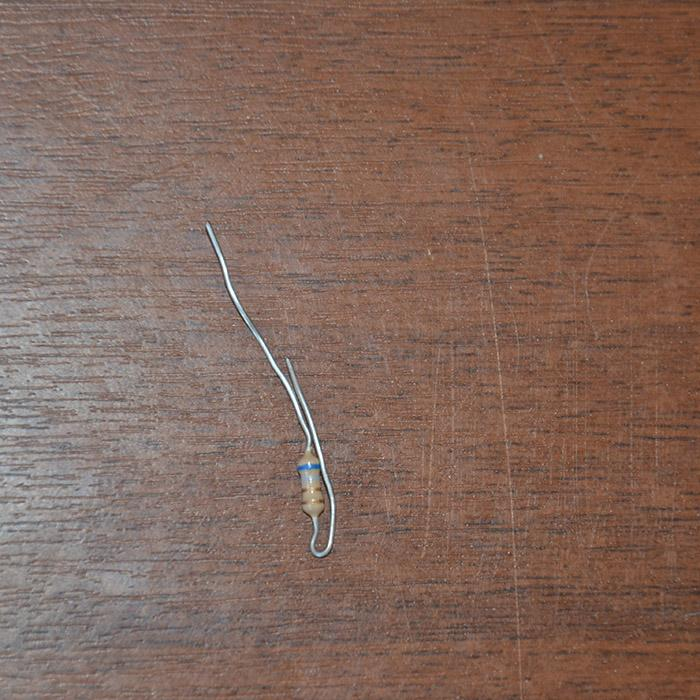resistor: (297, 448, 325, 519)
